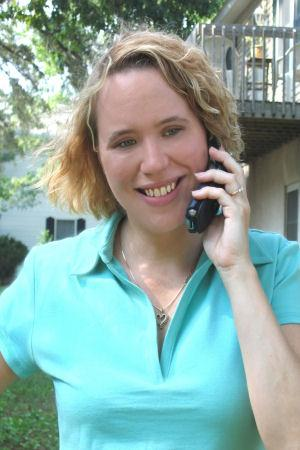person: (3, 34, 300, 449)
